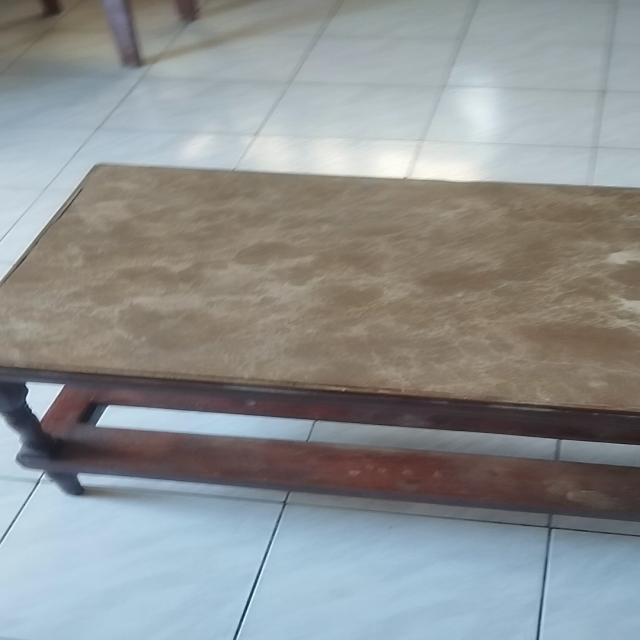table: (0, 159, 640, 522)
